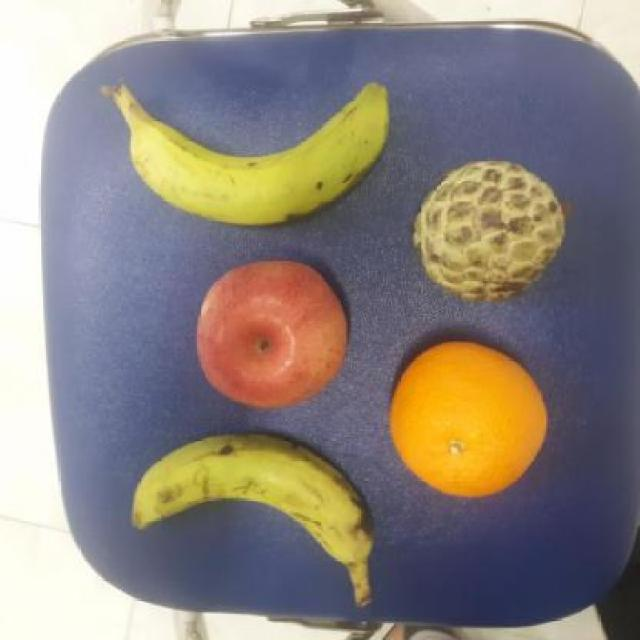apple: (194, 257, 349, 414)
banana: (117, 88, 389, 230), (128, 429, 374, 569)
oren: (384, 335, 548, 497)
sugar apple: (412, 152, 570, 306)
